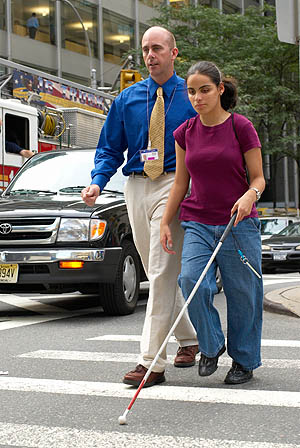Person: (81, 26, 198, 388), (160, 60, 266, 385)
